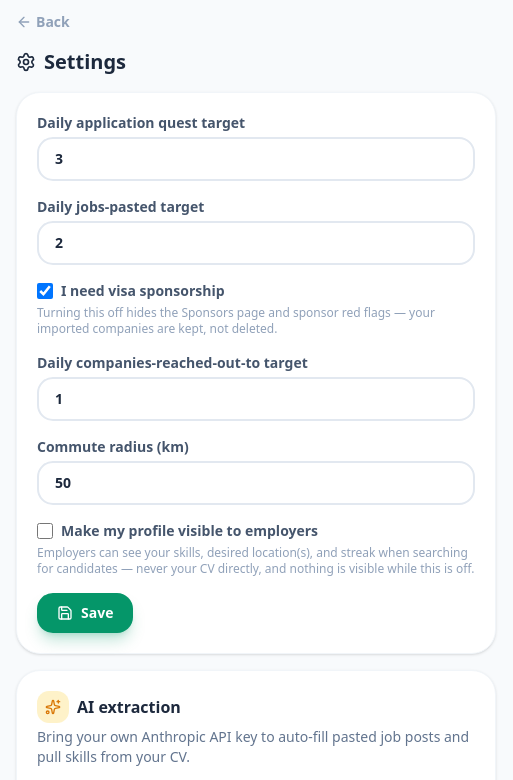
Settings › saves an updated target
Replace the text in the number field labelled "Daily application quest target" with "5": (256, 159) [37, 137, 475, 181]
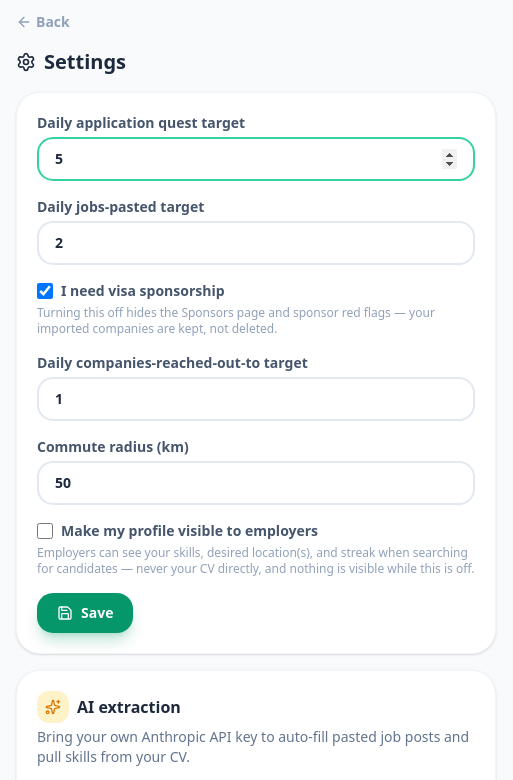
Click the button "Save": (85, 613) [37, 593, 133, 633]
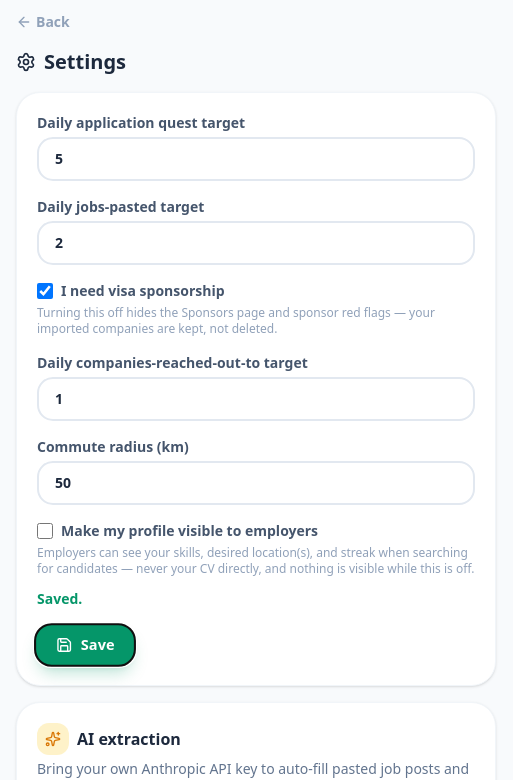
expect the text "Saved." is shown: met, box [37, 589, 82, 608]
